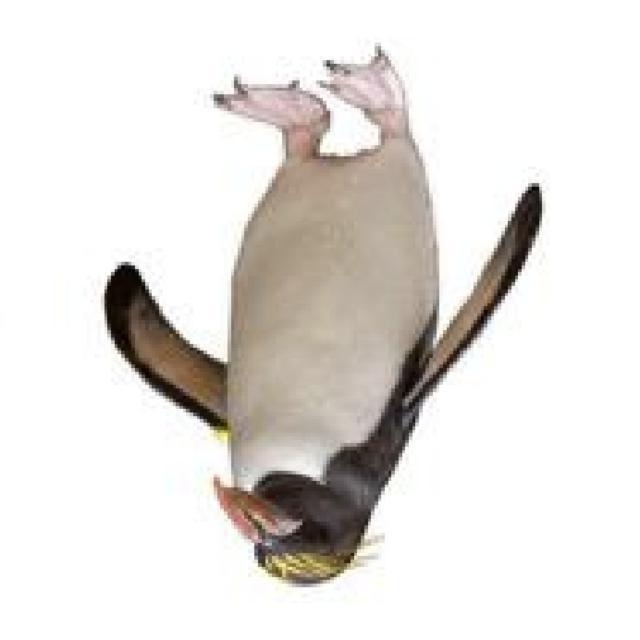penguin: (103, 42, 543, 586)
